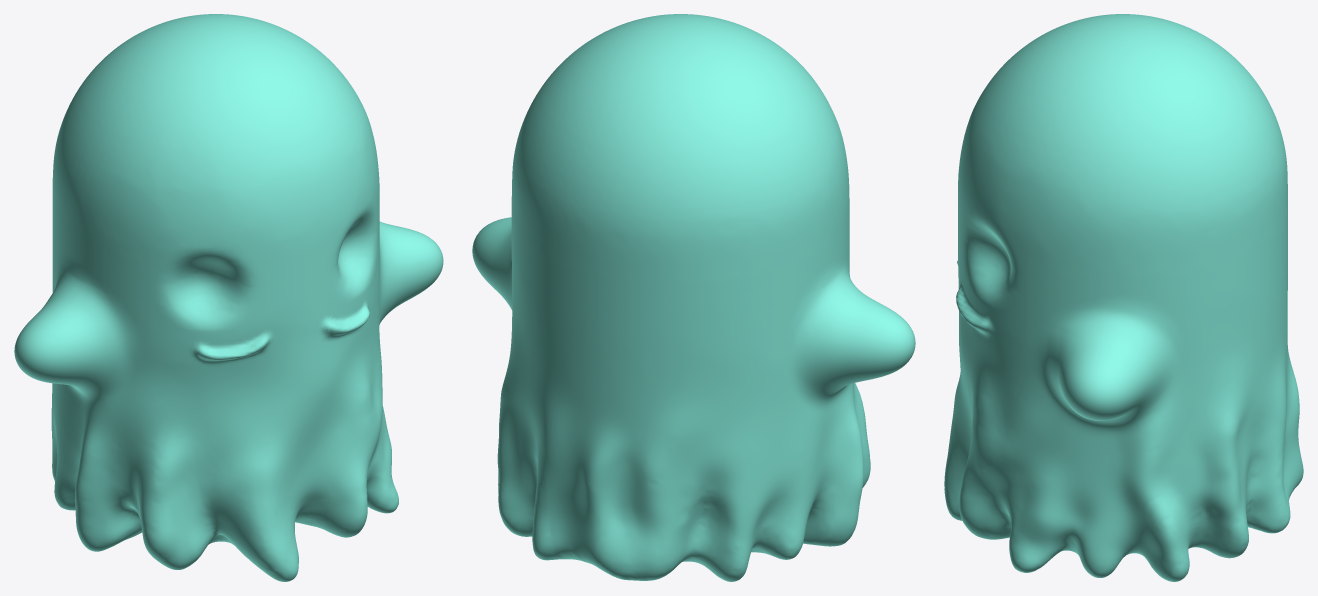
The model's file is FrenchGhost v1.01.fbx.
3 views of the same model, side by side, from view 1: azimuth 30°, elevation 25°; view 2: azimuth 150°, elevation 25°; view 3: azimuth 270°, elevation 25° (orthographic). The views are drawn at different scales.
Visible parts, largest first — view 1: Ghost_v3; view 2: Ghost_v3; view 3: Ghost_v3.
Boxes of the visible parts, x1,y1,x2,y2 form: Ghost_v3: (14, 14, 443, 581); Ghost_v3: (472, 14, 915, 581); Ghost_v3: (944, 14, 1303, 581).
Bounding box in the file's own units: 2.58 × 2.87 × 1.89.
